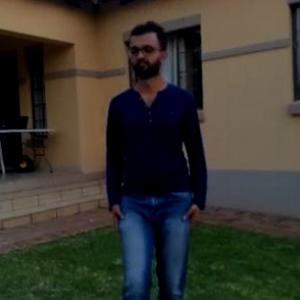follow: (107, 36, 197, 299)
